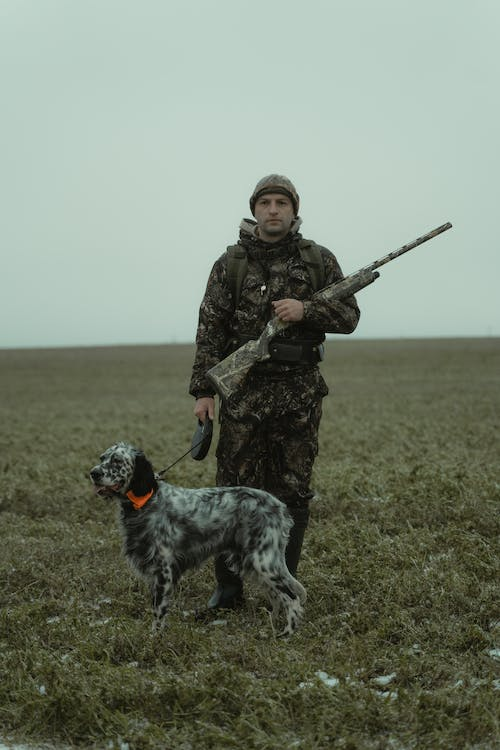gun: (202, 220, 454, 403)
